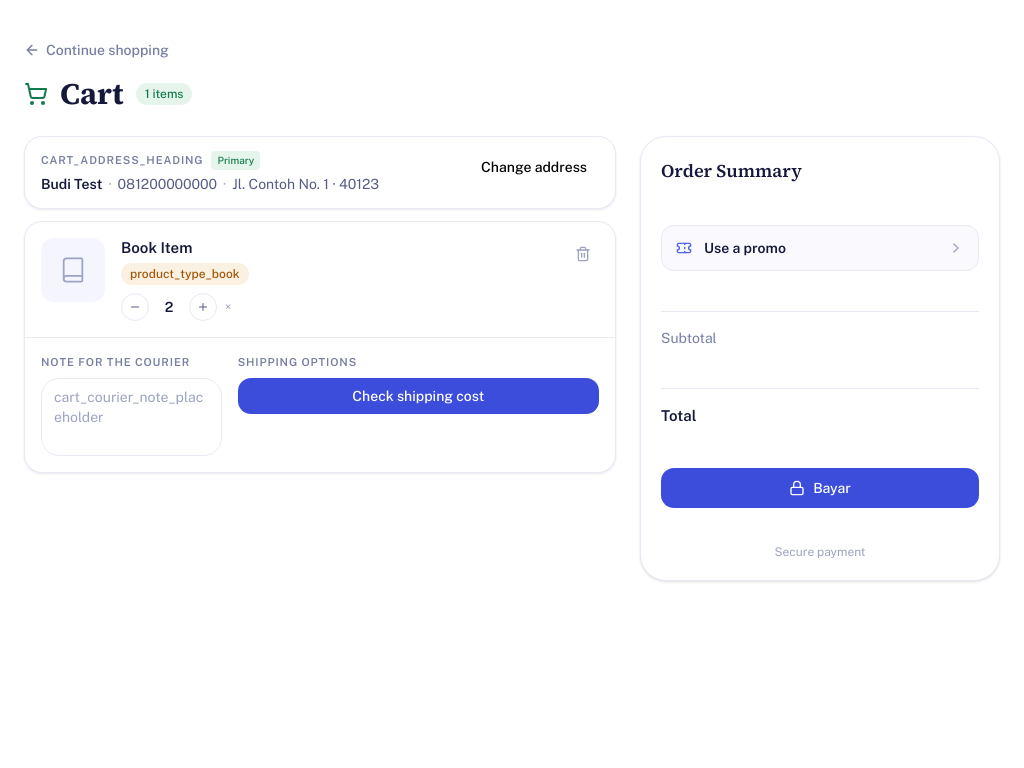
Test case: CartPage with Shipping › leaves the primary box unticked when the profile already holds an address
The width and height of the screenshot is (1024, 768).
Click the button "Change address": (534, 167) x1=469 y1=151 x2=599 y2=183
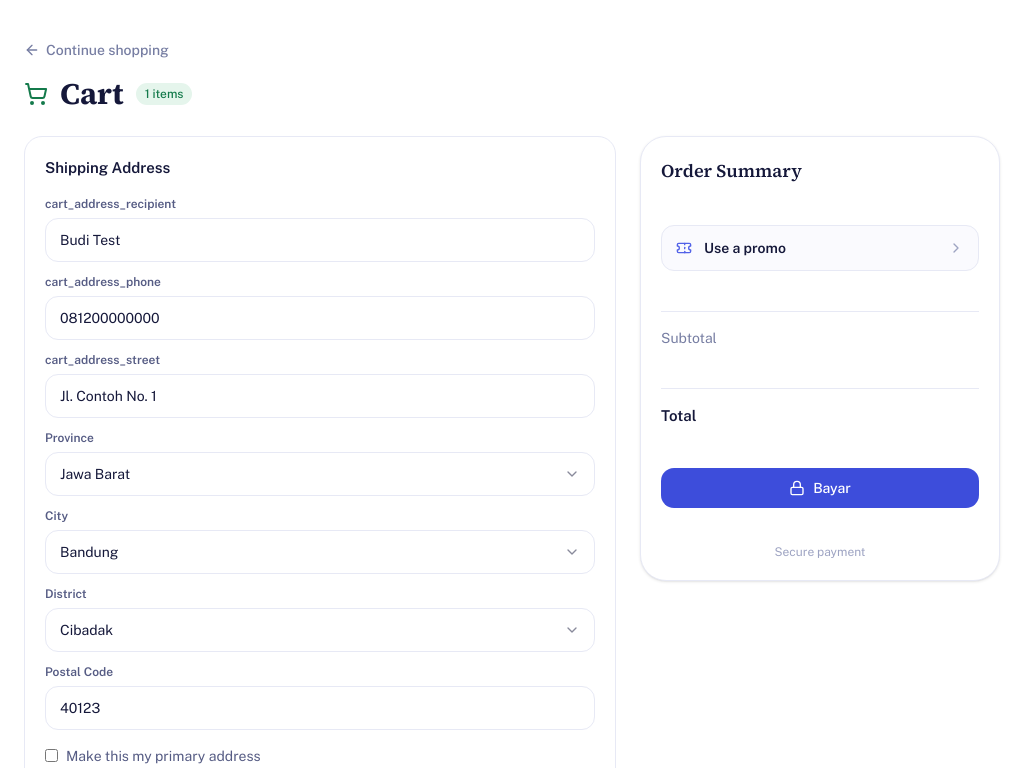
Now the checkbox labelled "Make this my primary address" is not checked, box x1=45 y1=749 x2=58 y2=762
